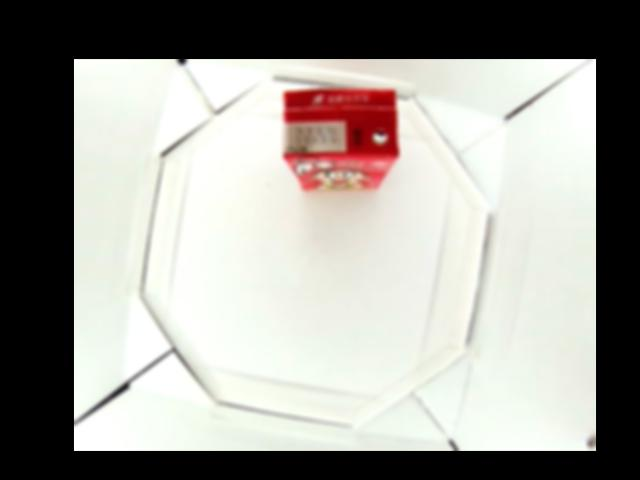Bottle: (281, 86, 397, 191)
